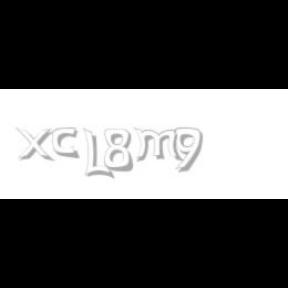8: (104, 128, 134, 172)
9: (174, 128, 202, 172)
L: (83, 128, 111, 180)
c: (51, 128, 80, 160)
m: (132, 128, 184, 162)
x: (16, 128, 58, 162)
